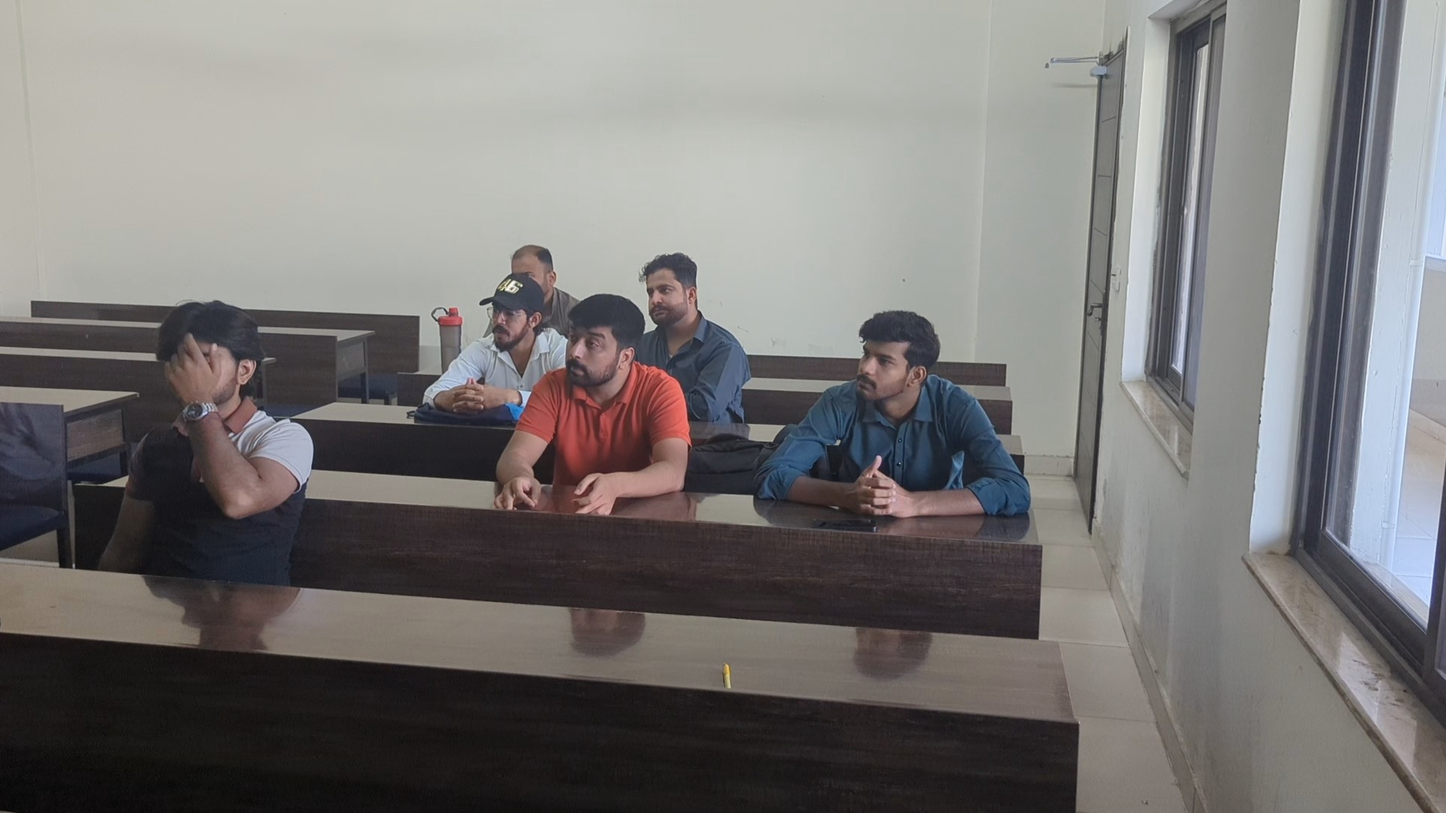look_forward: (753, 302, 1029, 530), (515, 301, 683, 472), (612, 244, 748, 386), (439, 274, 564, 420), (502, 243, 563, 287)
sleep: (110, 293, 326, 573)
